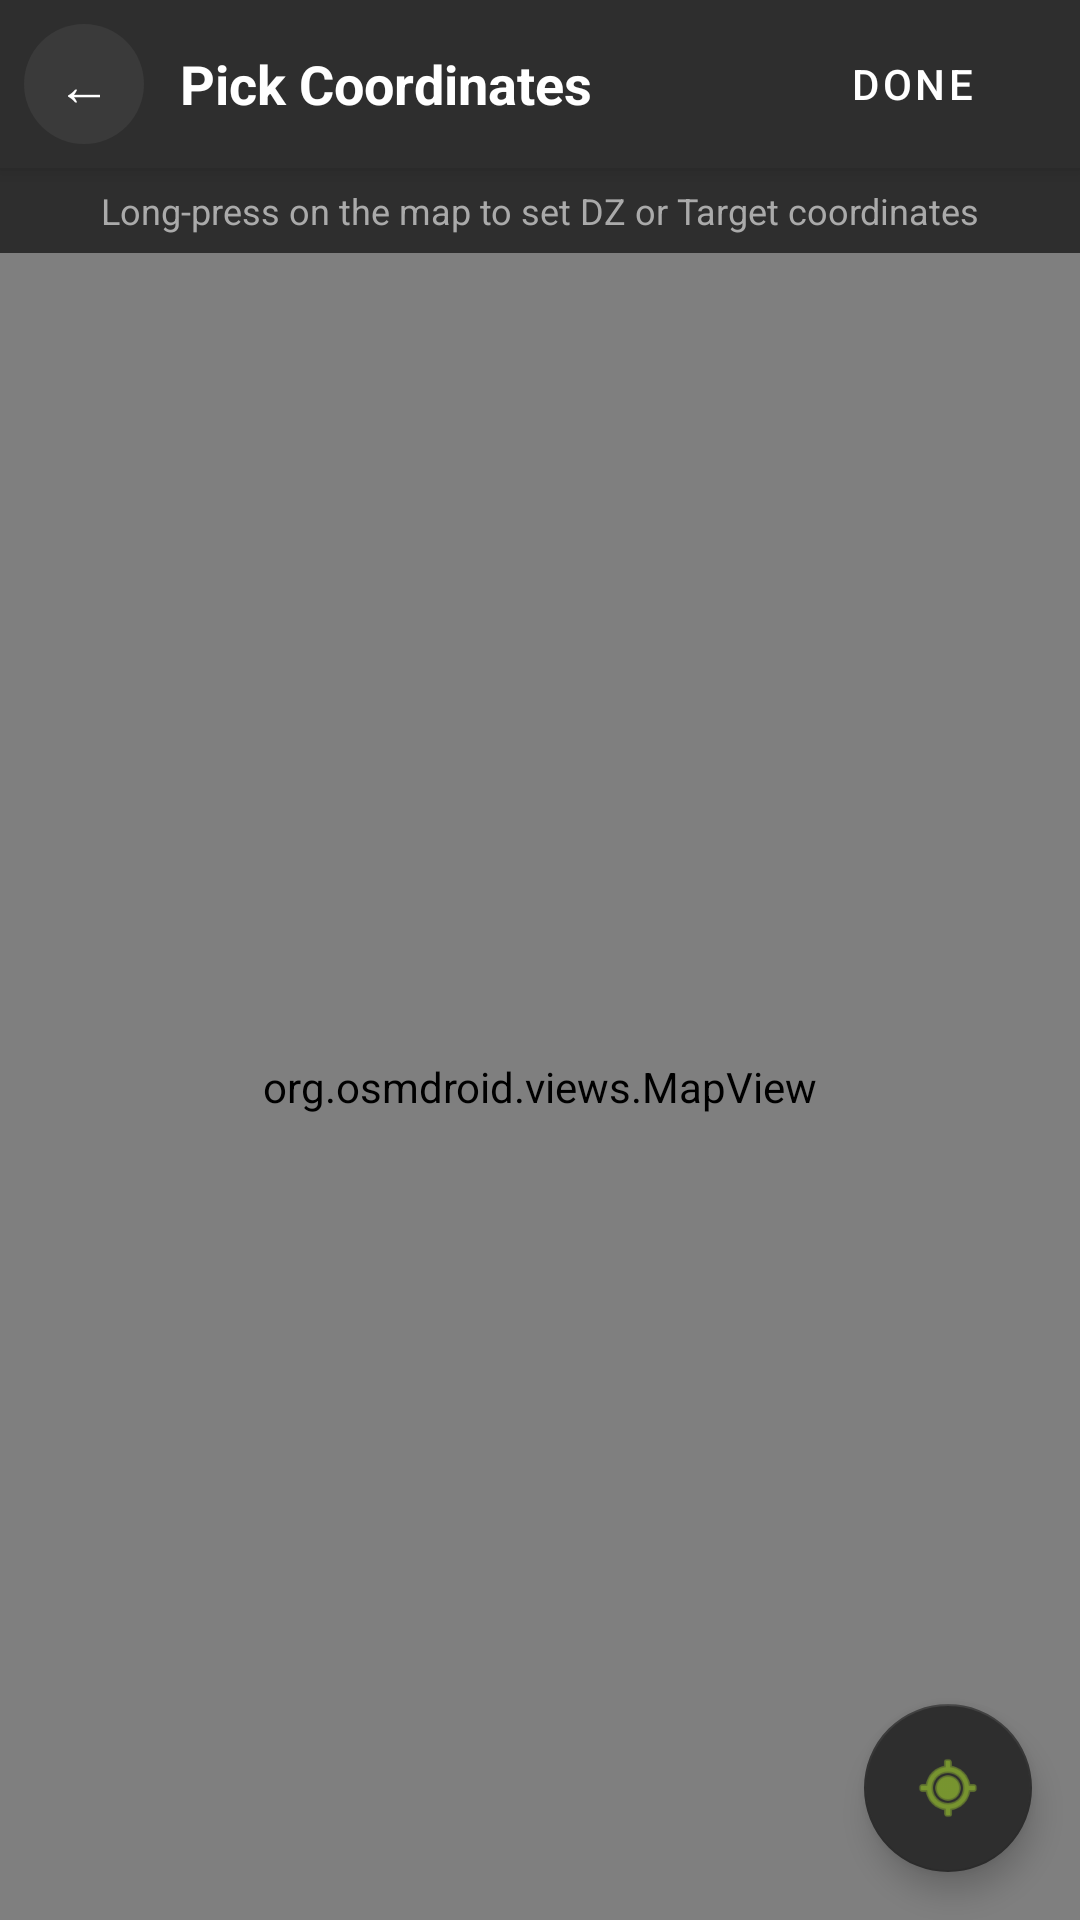

Screen size 1080px×1920px. Icon name, then its center in pixels as point (x, y):
My location: point (948, 1788)
